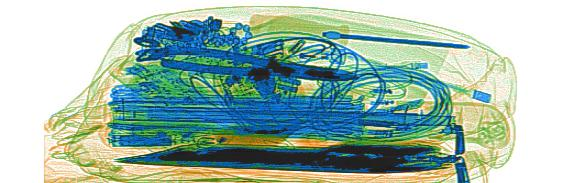battery: (109, 133, 176, 147)
lighter: (252, 39, 349, 67)
